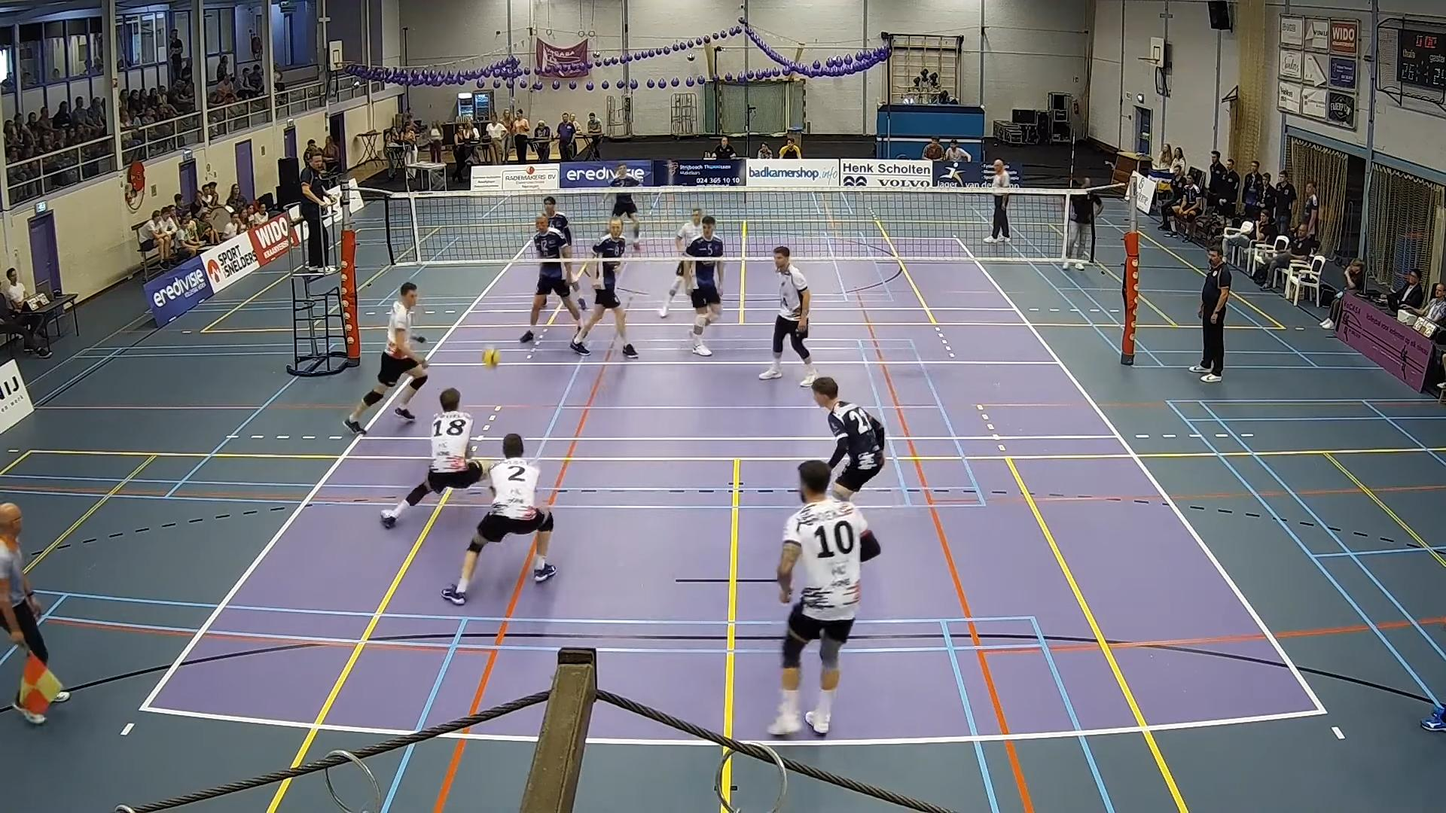ricezione: (443, 432, 558, 611), (378, 384, 508, 533)
